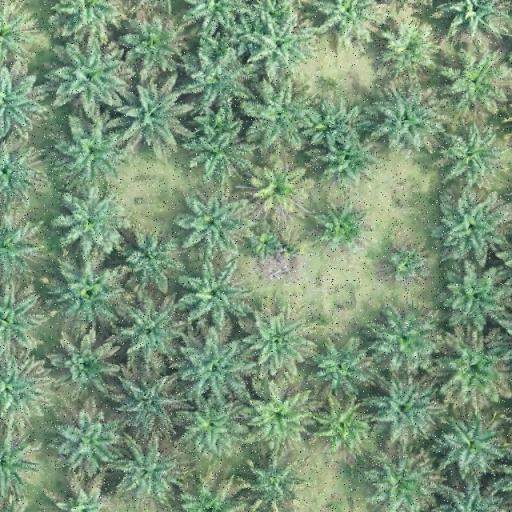Ganoderma: (255, 170, 300, 212)
